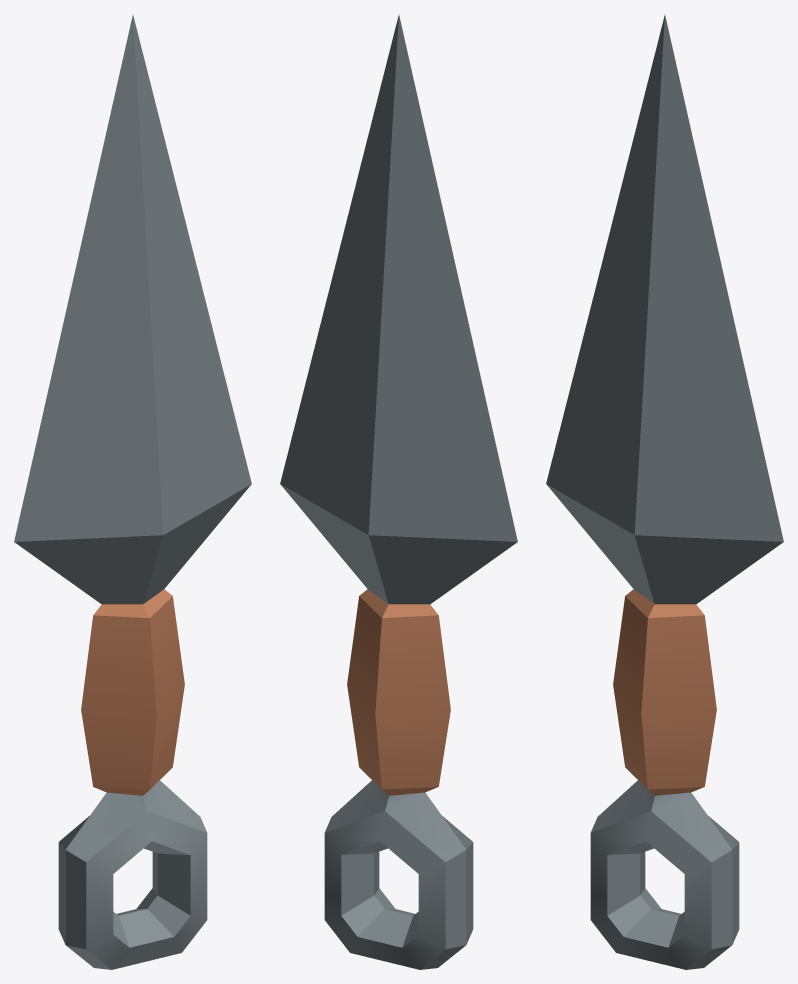
Rendered from throwing_knife.gltf.glb.
3 renders of one model, left to right at view 1: azimuth 30°, elevation 25°; view 2: azimuth 150°, elevation 25°; view 3: azimuth 330°, elevation 25°, orthographic.
Parts seen in each view (by area): view 1: throwing_knife; view 2: throwing_knife; view 3: throwing_knife.
Boxes of the visible parts, x1,y1,x2,y2 form: throwing_knife: (14,15,251,969); throwing_knife: (280,15,517,969); throwing_knife: (546,15,783,969).
Size of the model in its own units: 0.1824 by 0.692 by 0.0807.
